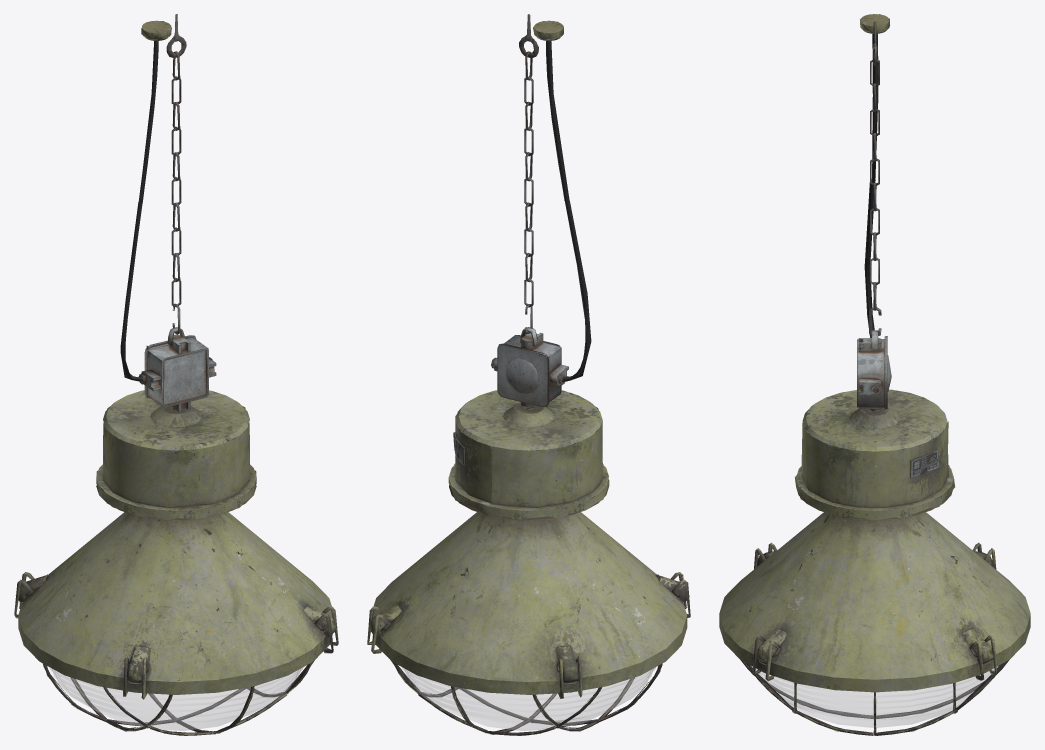
3 views of the same model, side by side, from view 1: azimuth 30°, elevation 25°; view 2: azimuth 150°, elevation 25°; view 3: azimuth 270°, elevation 25° (orthographic).
Parts seen in each view (by area): view 1: hanging_industrial_lamp.001; view 2: hanging_industrial_lamp.001; view 3: hanging_industrial_lamp.001.
Part boxes in pixels (box(x1,y1,x2,y2)): hanging_industrial_lamp.001: box(14, 14, 338, 735); hanging_industrial_lamp.001: box(367, 14, 690, 735); hanging_industrial_lamp.001: box(719, 14, 1030, 735).
Bounding box in the file's own units: 0.5496 × 1.36 × 0.5496.
2 materials, 1 textured.
